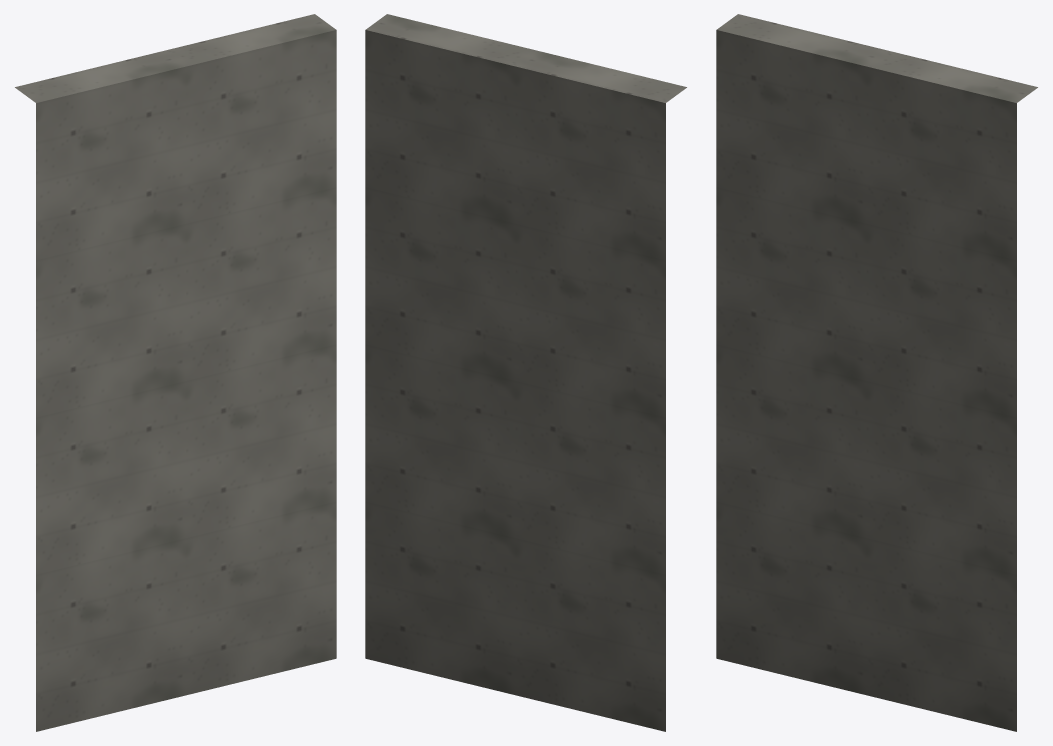
File: wall_bunker_raw.glb
3 renders of one model, left to right at view 1: azimuth 30°, elevation 25°; view 2: azimuth 150°, elevation 25°; view 3: azimuth 330°, elevation 25°, orthographic.
Visible parts, largest first — view 1: wall_bunker_raw; view 2: wall_bunker_raw; view 3: wall_bunker_raw.
Boxes of the visible parts, bbox=[...] form: wall_bunker_raw: bbox=[15, 14, 336, 731]; wall_bunker_raw: bbox=[365, 14, 686, 731]; wall_bunker_raw: bbox=[716, 14, 1037, 731].
Bounding box in the file's own units: 2 × 4 × 0.25.
1 material, 1 textured.
